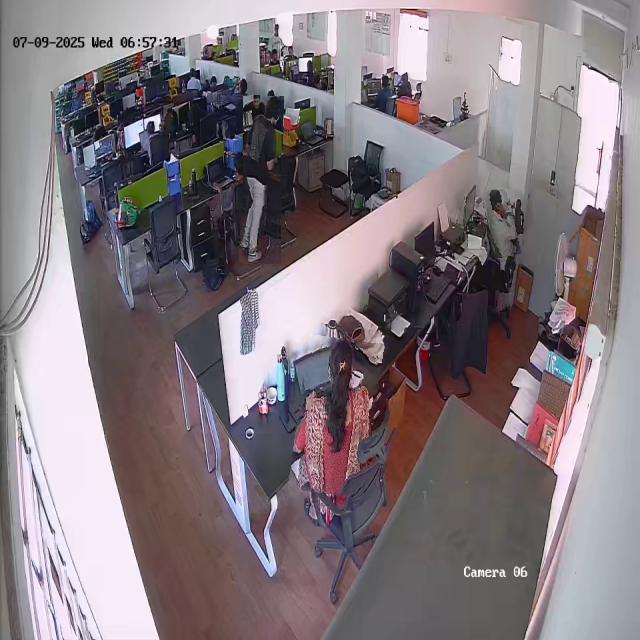person: (293, 336, 379, 497), (242, 96, 284, 264), (484, 188, 519, 258)
